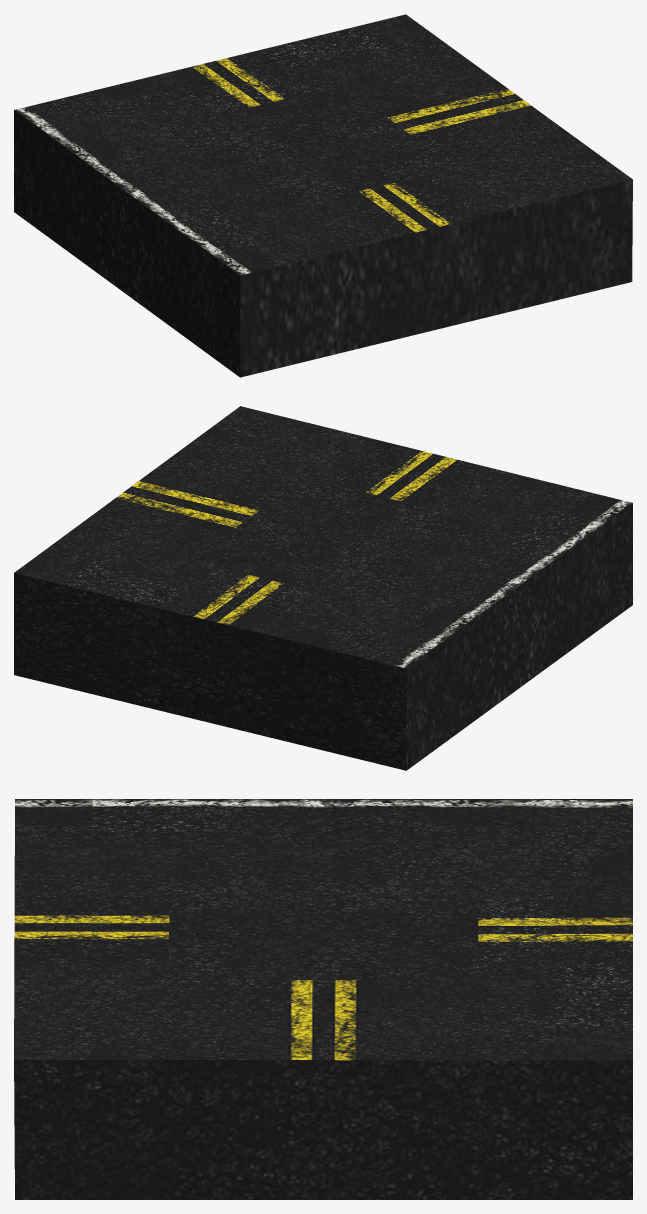
Rendered from Model_Road_T.fbx.
3 renders of one model, top to bottom at view 1: azimuth 30°, elevation 25°; view 2: azimuth 150°, elevation 25°; view 3: azimuth 270°, elevation 25°, orthographic. The views are drawn at different scales.
Parts seen in each view (by area): view 1: PavementT; view 2: PavementT; view 3: PavementT.
Part boxes in pixels (<box>): PavementT: <box>14,14,632,377</box>; PavementT: <box>14,406,632,770</box>; PavementT: <box>14,799,632,1199</box>.
Bounding box in the file's own units: 25 × 100 × 100.
1 material, 1 textured.
